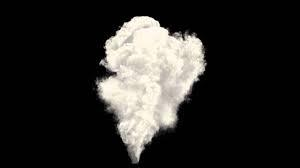smoke: (91, 16, 207, 163)
